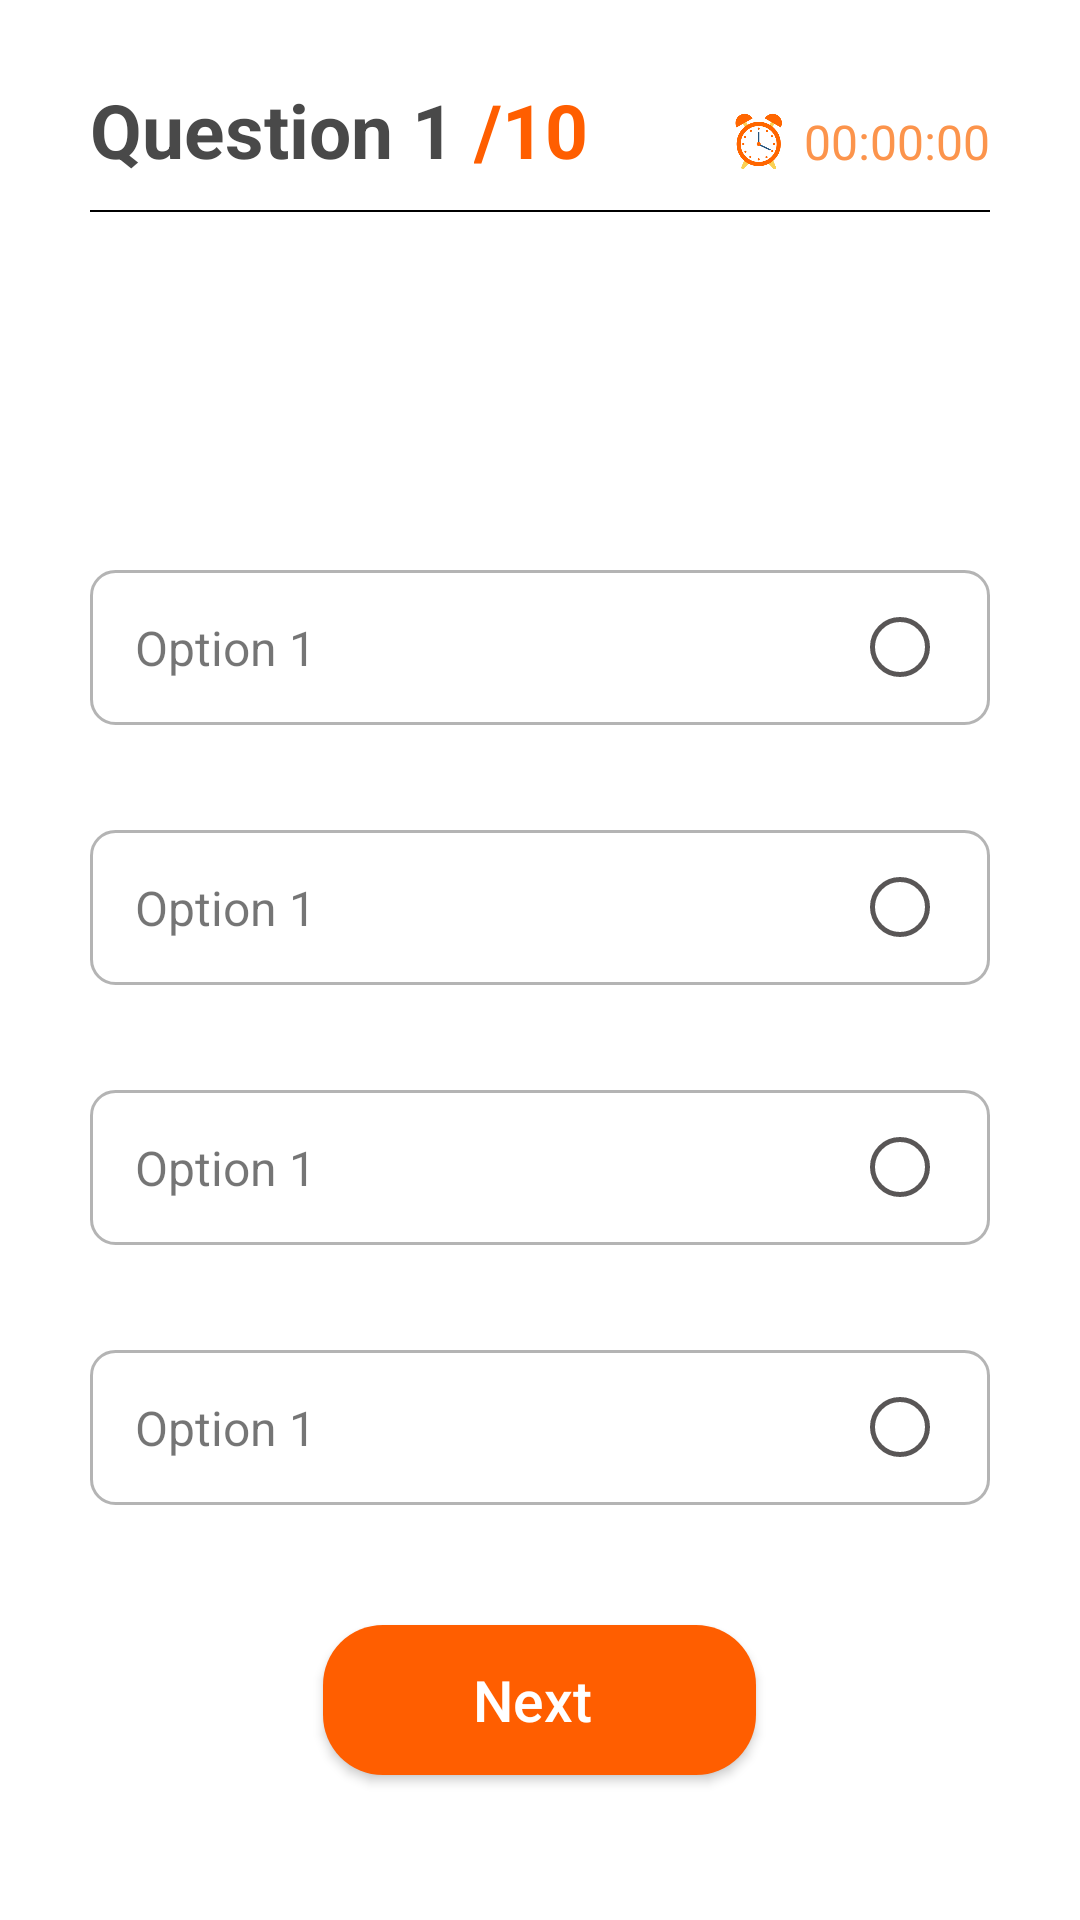

Where icons sit on this 1080px x 1920px app screen, as (x1, y1, x2, y2):
runing clock: (735, 114, 782, 169)
